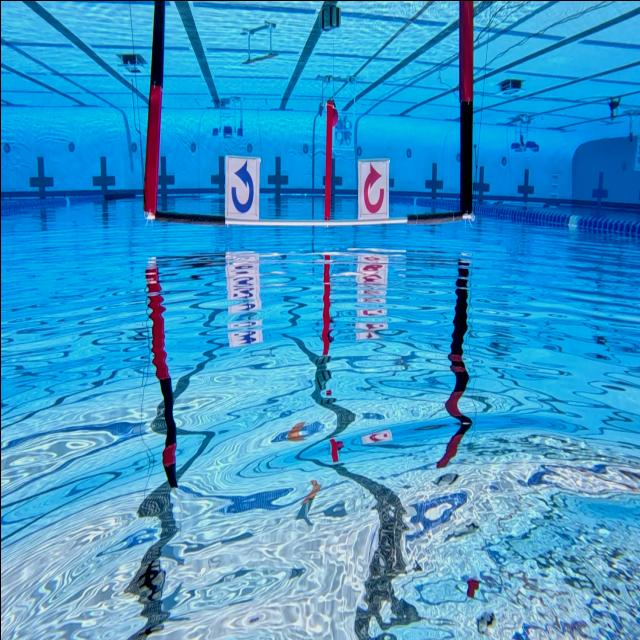blue_side: (223, 150, 261, 223)
red_side: (356, 152, 392, 222)
